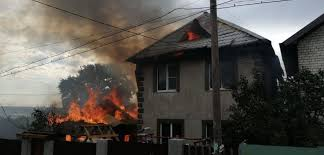fire: (46, 65, 145, 142)
